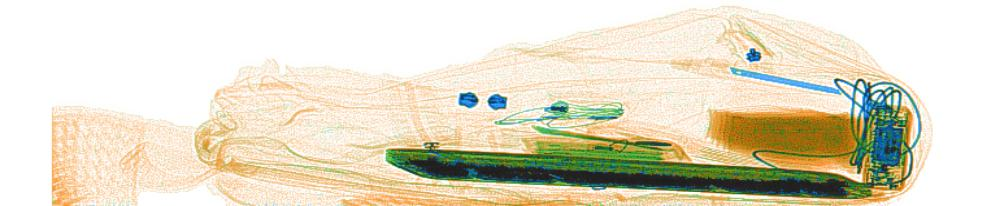knife: (729, 63, 845, 98)
